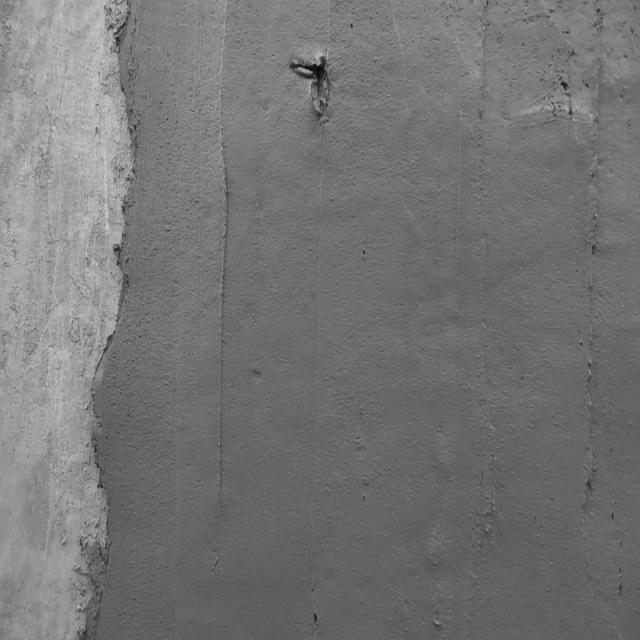trowels marks: (216, 12, 227, 543), (288, 42, 336, 120)
